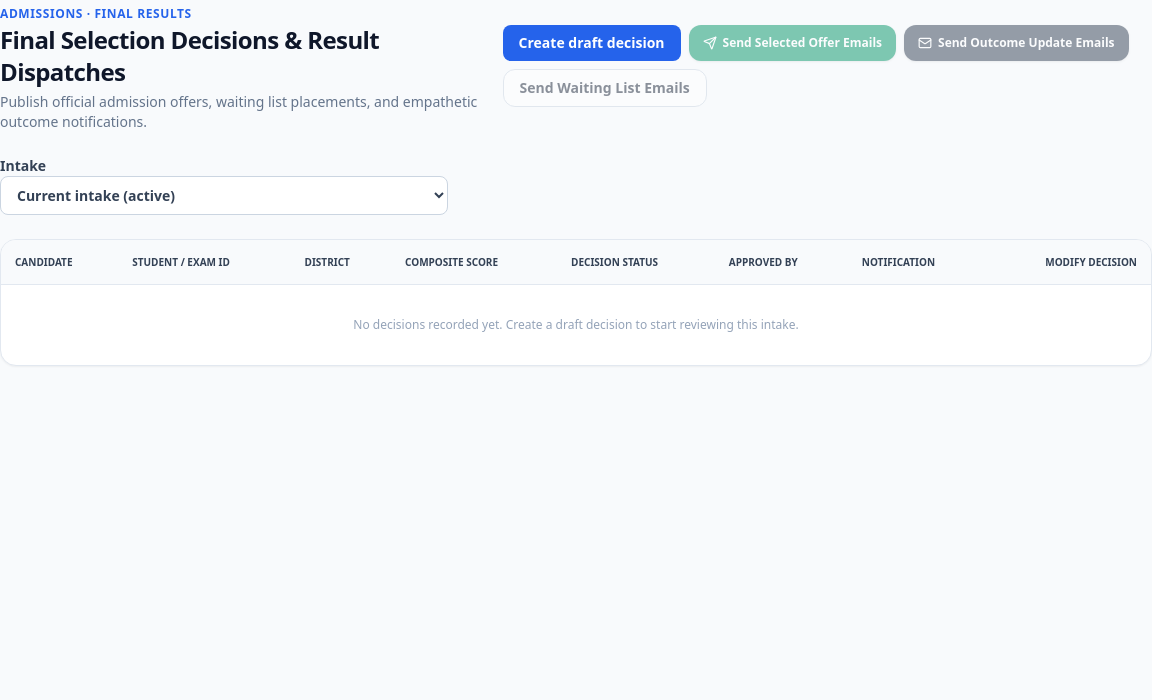
it: keeps the draft and displays the API error when saving fails
Expected: the text "No decisions recorded yet" is shown, x1=353 y1=316 x2=799 y2=333
Step 1. Click the button "Create draft decision" → coordinates (592, 43), box x1=503 y1=25 x2=680 y2=61
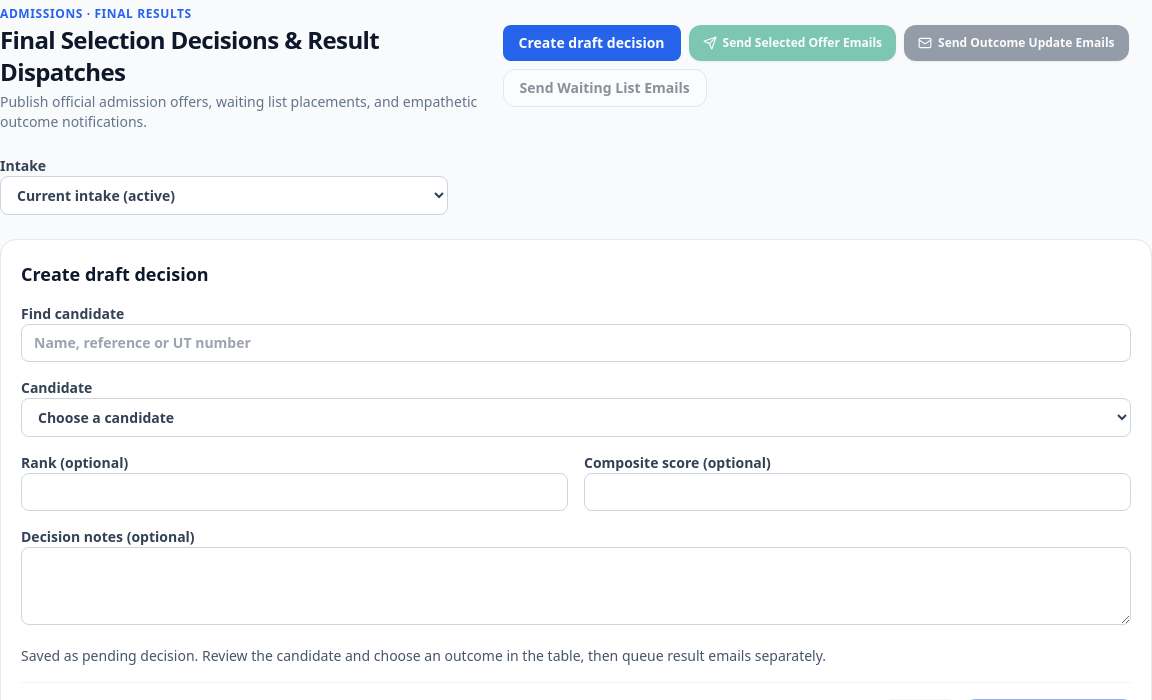
Step 2. Select "Audit Student · REG-AUDIT · UT011001" in the dropdown labelled "Candidate" → coordinates (576, 418), box x1=21 y1=398 x2=1131 y2=437
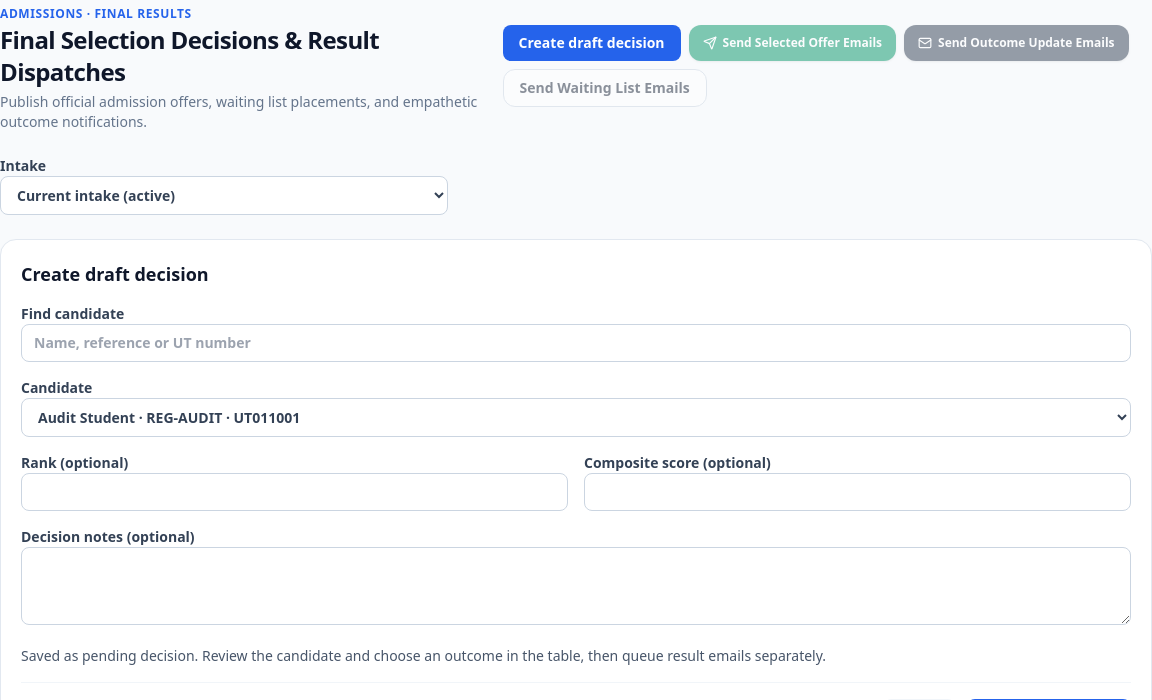
Step 3. Type "Preserve these notes" into the text box labelled "Decision notes (optional)" → coordinates (576, 586), box x1=21 y1=547 x2=1131 y2=625
(page scrolled)
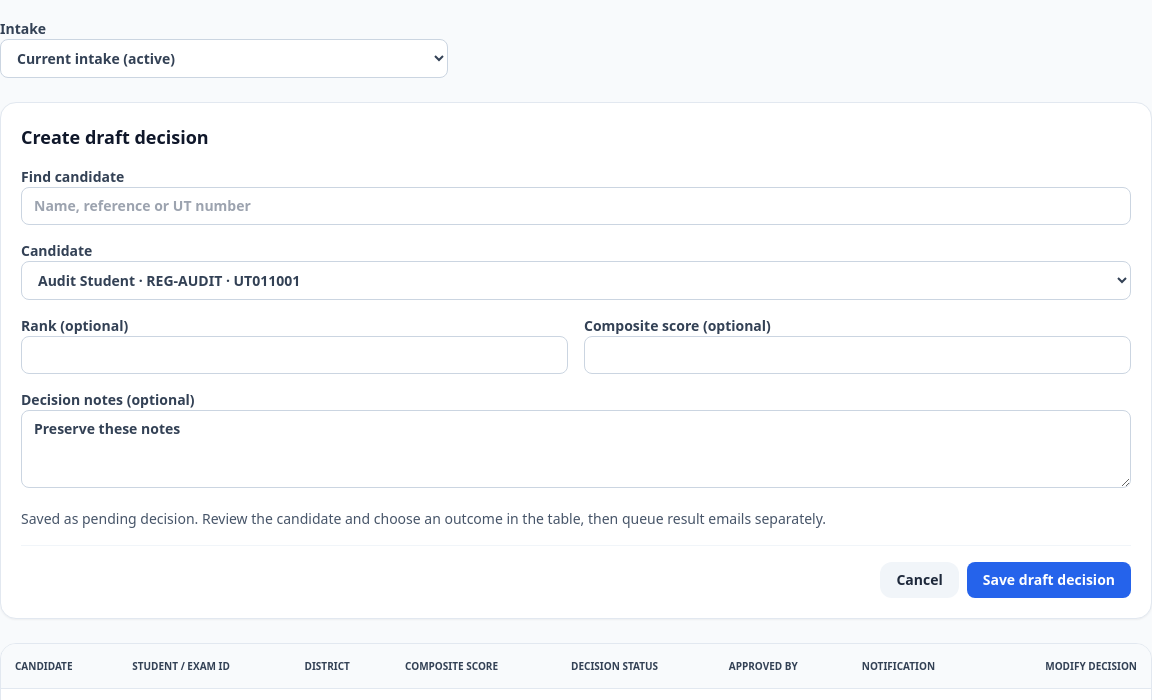
Step 4. Submit the form "Create draft decision"
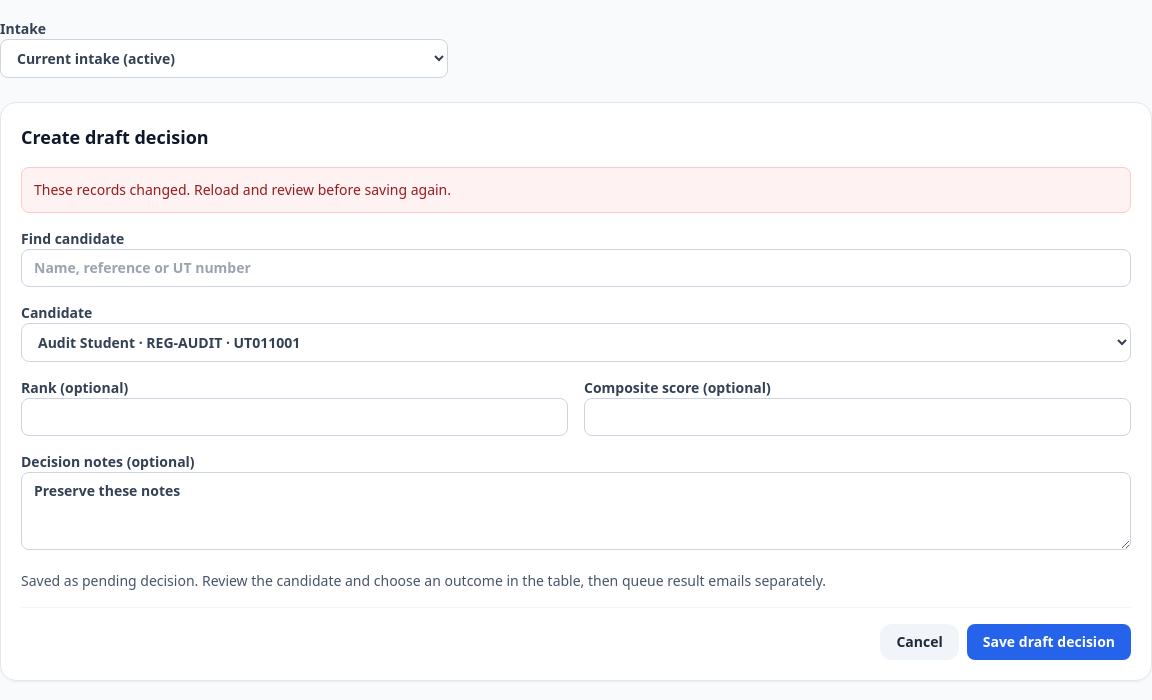
Expected: the button "Save draft decision" is enabled, x1=967 y1=624 x2=1131 y2=660
Expected: the message "These records changed. Reload and review before saving again." is shown, x1=21 y1=167 x2=1131 y2=213
